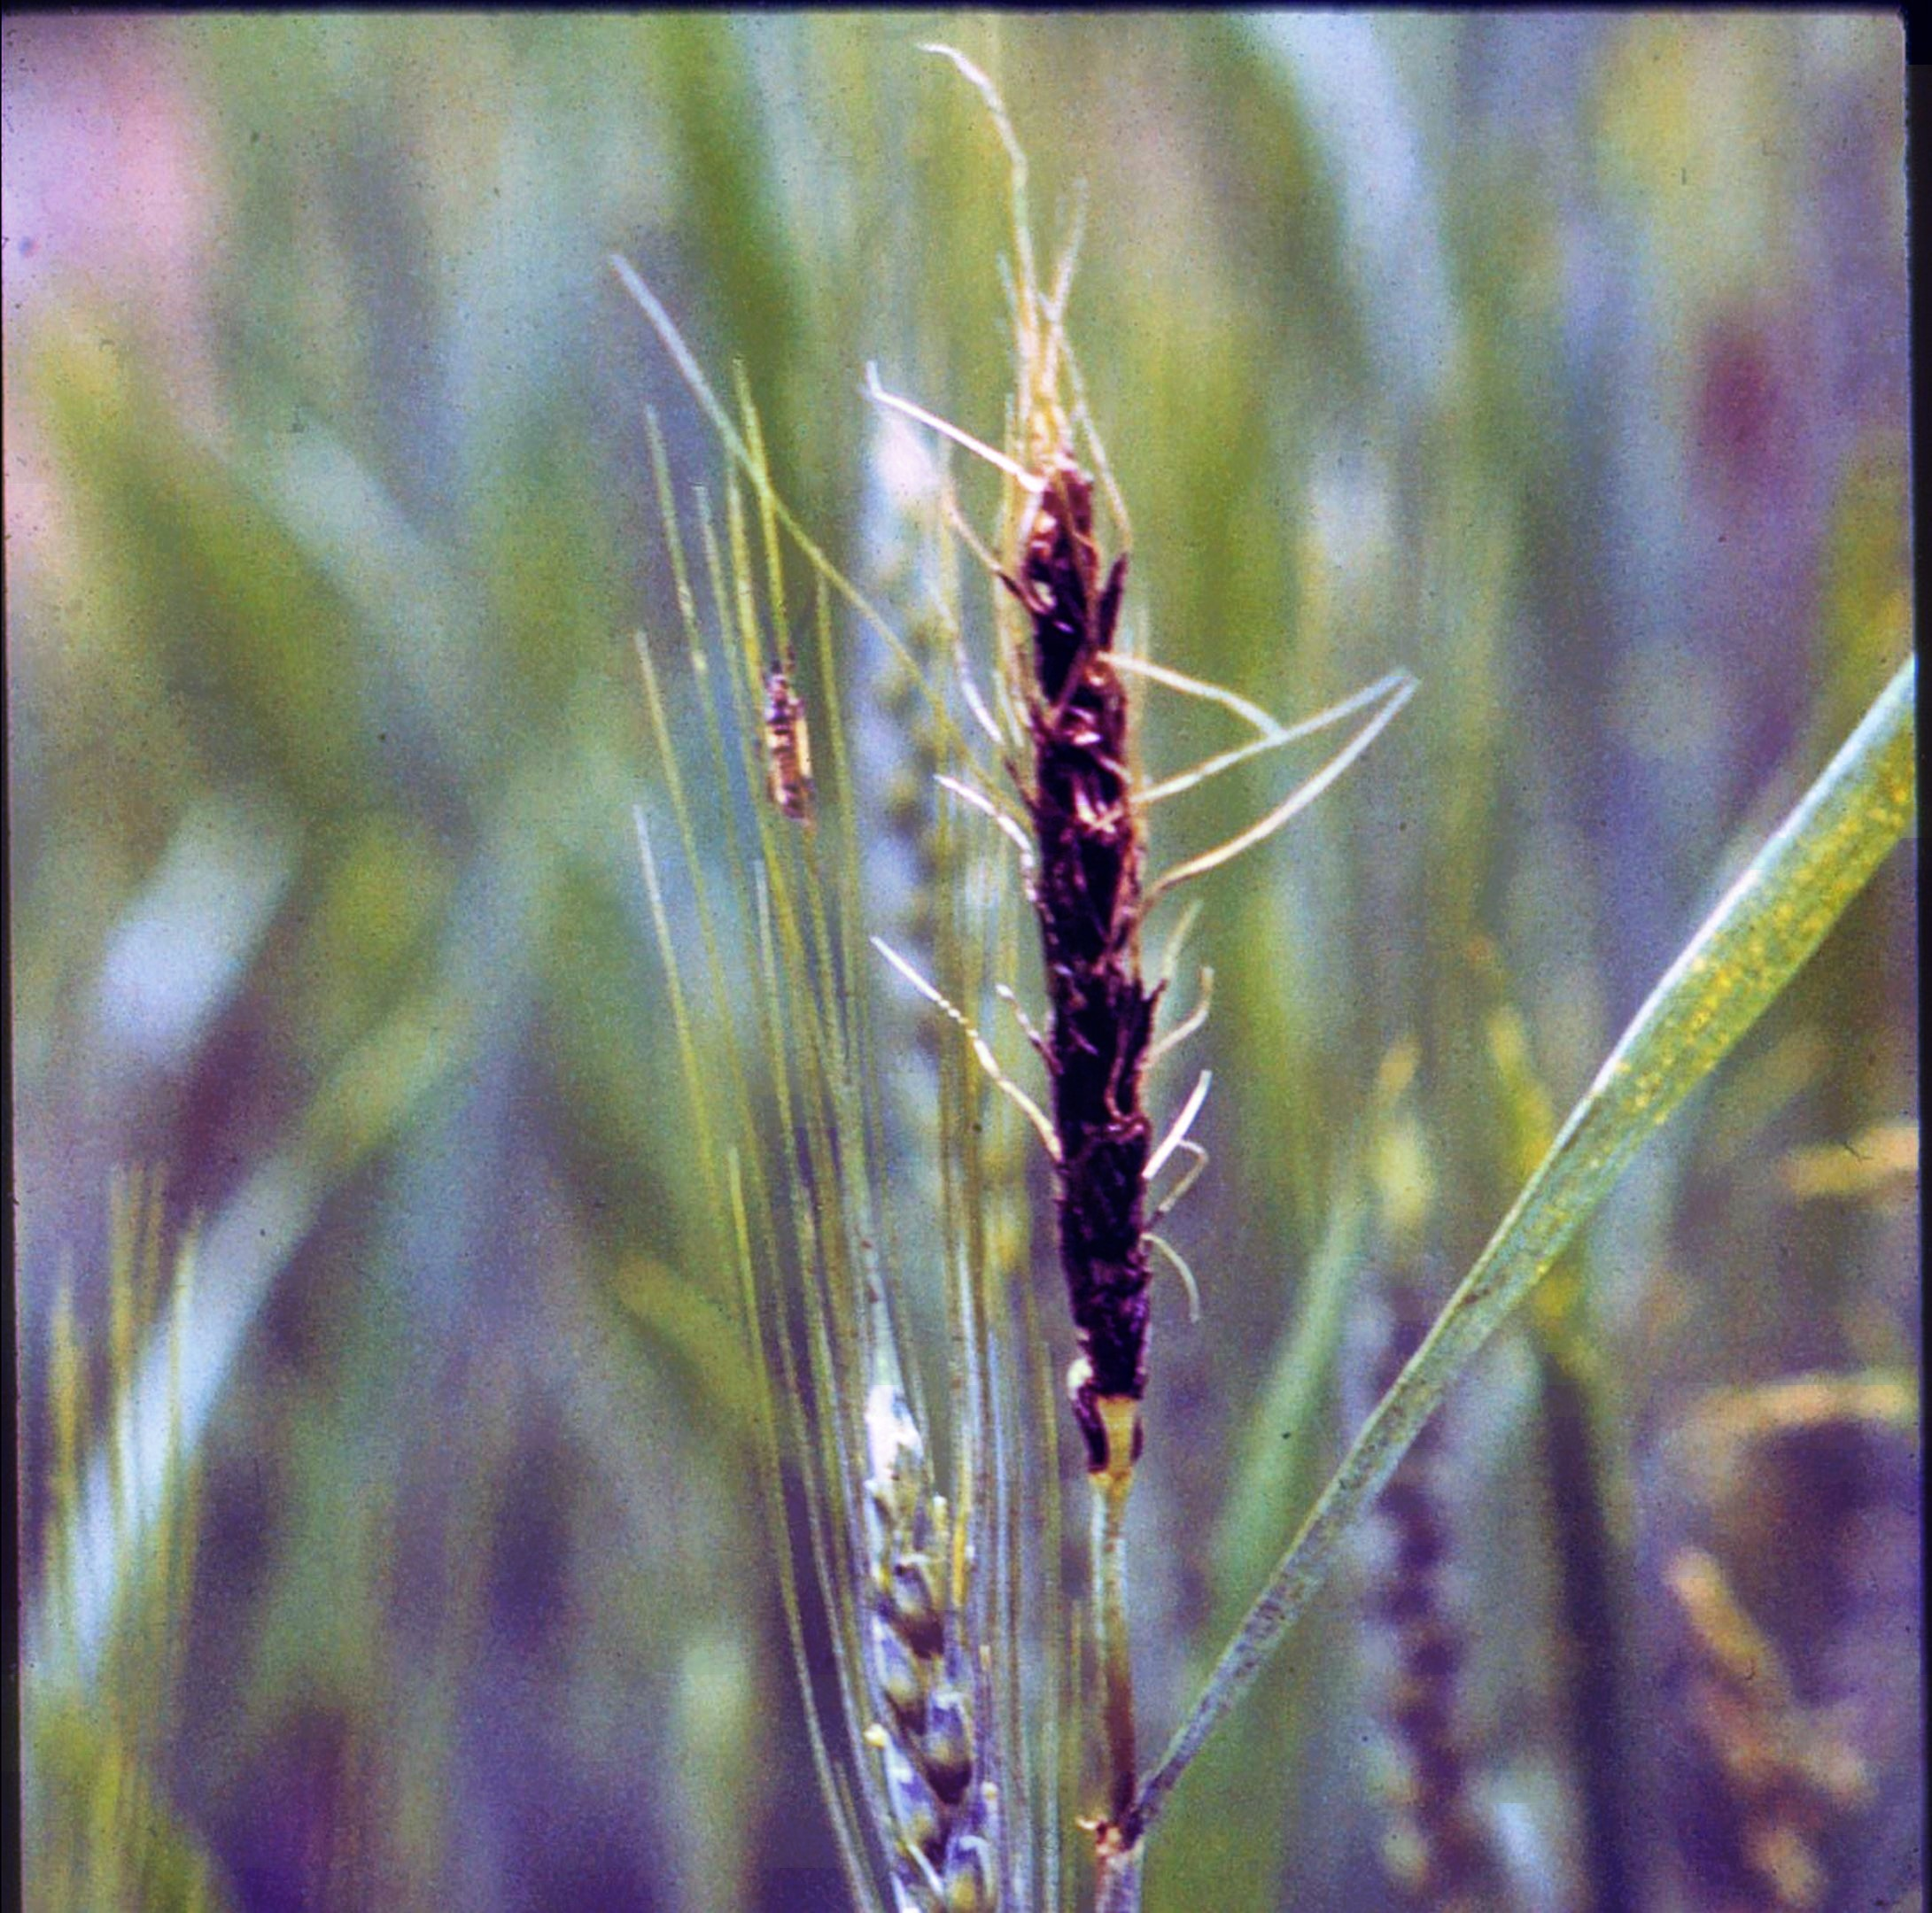Wheat Loose Smut: (969, 464, 1231, 1458)
